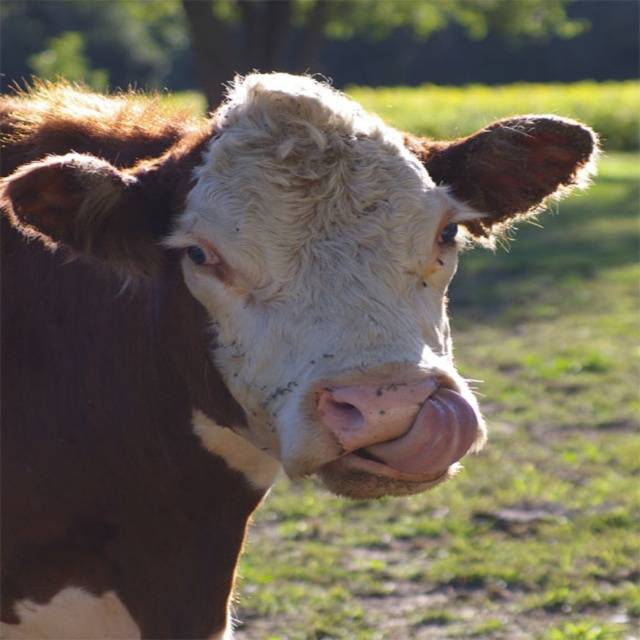Cattle: (0, 67, 610, 640)
